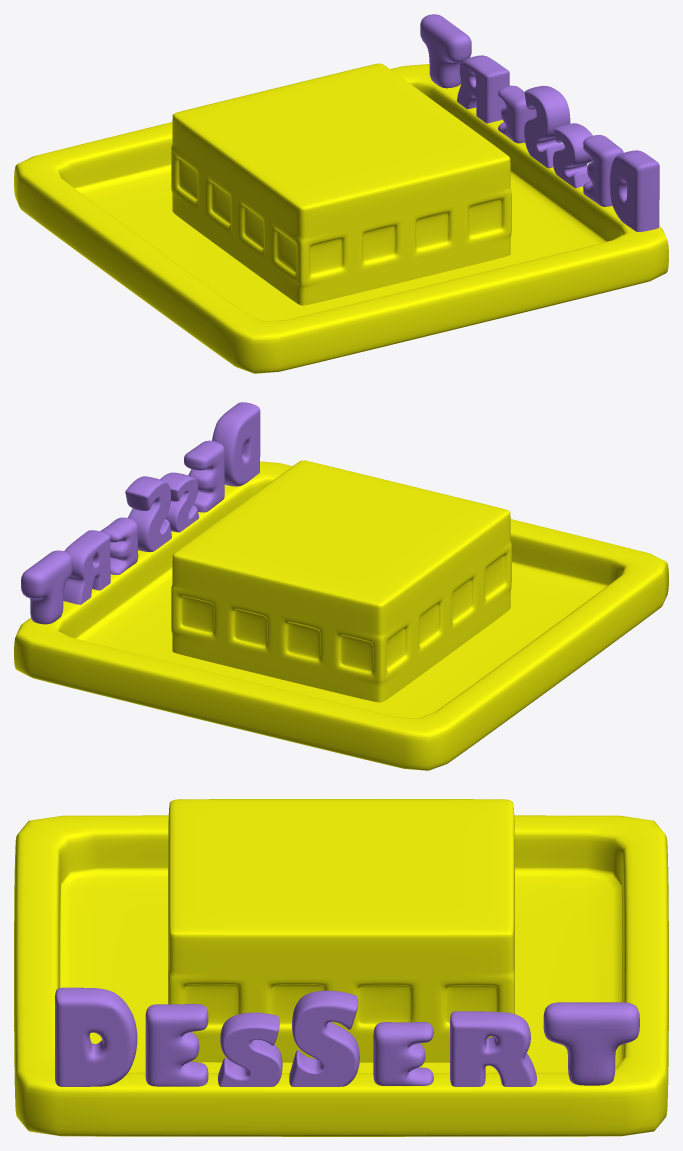
3 renders of one model, top to bottom at view 1: azimuth 30°, elevation 25°; view 2: azimuth 150°, elevation 25°; view 3: azimuth 270°, elevation 25°, orthographic. The views are drawn at different scales.
Visible parts, largest first — view 1: polySurface1179; view 2: polySurface1179; view 3: polySurface1179.
Boxes of the visible parts, <box> form: polySurface1179: <box>14,14,668,373</box>; polySurface1179: <box>14,402,668,770</box>; polySurface1179: <box>14,799,668,1136</box>.
Size of the model in its own units: 1.15 by 0.3678 by 1.15.
